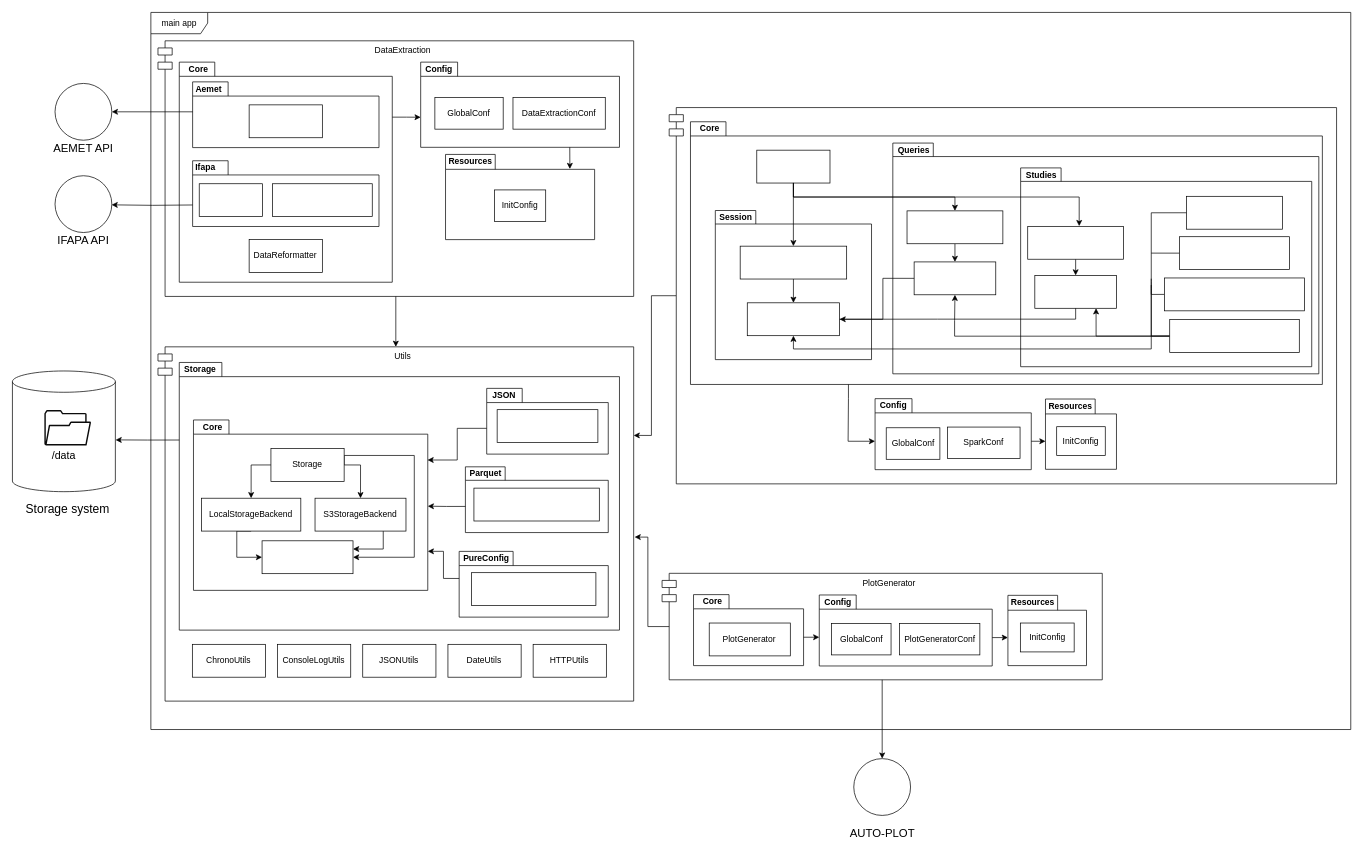
This 1363x856 diagram has some shape labels left out. The box of each missing label's shape, as (x1, y1, x2, y2) in pixels:
AemetAPIClient: (248, 104, 322, 138)
AvroParquetStorageBackend: (473, 487, 599, 521)
ClimographsQueriesCore: (1179, 236, 1290, 270)
IfapaAPIClient: (199, 183, 262, 217)
IfapaToAemetConverter: (272, 183, 372, 217)
InterestingStudiesQueriesCore: (1169, 319, 1299, 353)
JSONStorageBackend: (496, 409, 598, 443)
PureConfigStorageBackend: (471, 572, 596, 606)
SingleParamStudiesQueriesCore: (1164, 277, 1305, 311)
SparkApp: (668, 107, 1337, 484)
SparkManager: (756, 149, 830, 183)
SparkQueriesCore: (913, 261, 996, 295)
SparkQueriesManager: (906, 210, 1003, 244)
SparkSessionCore: (747, 302, 840, 336)
SparkSessionManager: (739, 245, 847, 279)
StationsQueriesCore: (1186, 196, 1282, 229)
StorageExceptions: (261, 540, 353, 574)
StudyQueriesCore: (1034, 275, 1116, 308)
StudyQueriesManager: (1027, 226, 1124, 259)
